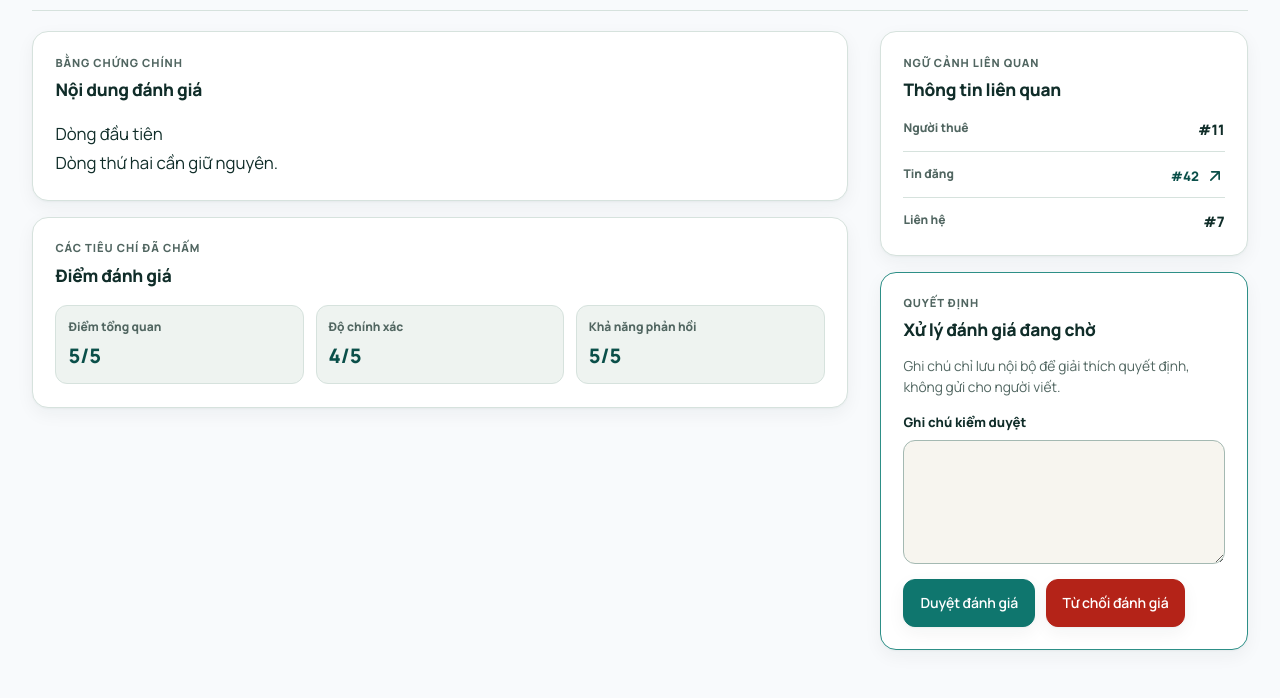
Test: AdminReviewDetail › handles a 409 with one canonical reload and never retries the PATCH
(page scrolled)
Type "Đã kiểm tra." into the text box labelled "Ghi chú kiểm duyệt" at (1064, 502), box [903,440,1225,564]
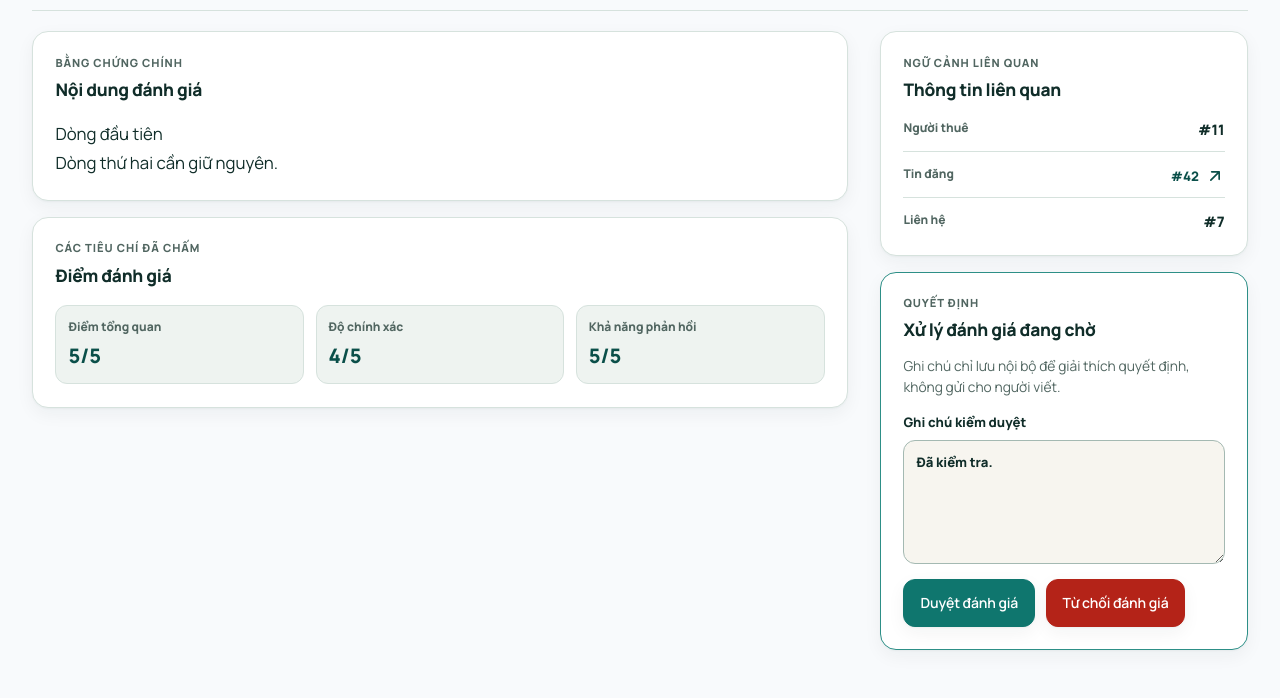
Click the button "Duyệt đánh giá" at (969, 603), box [903,579,1035,627]
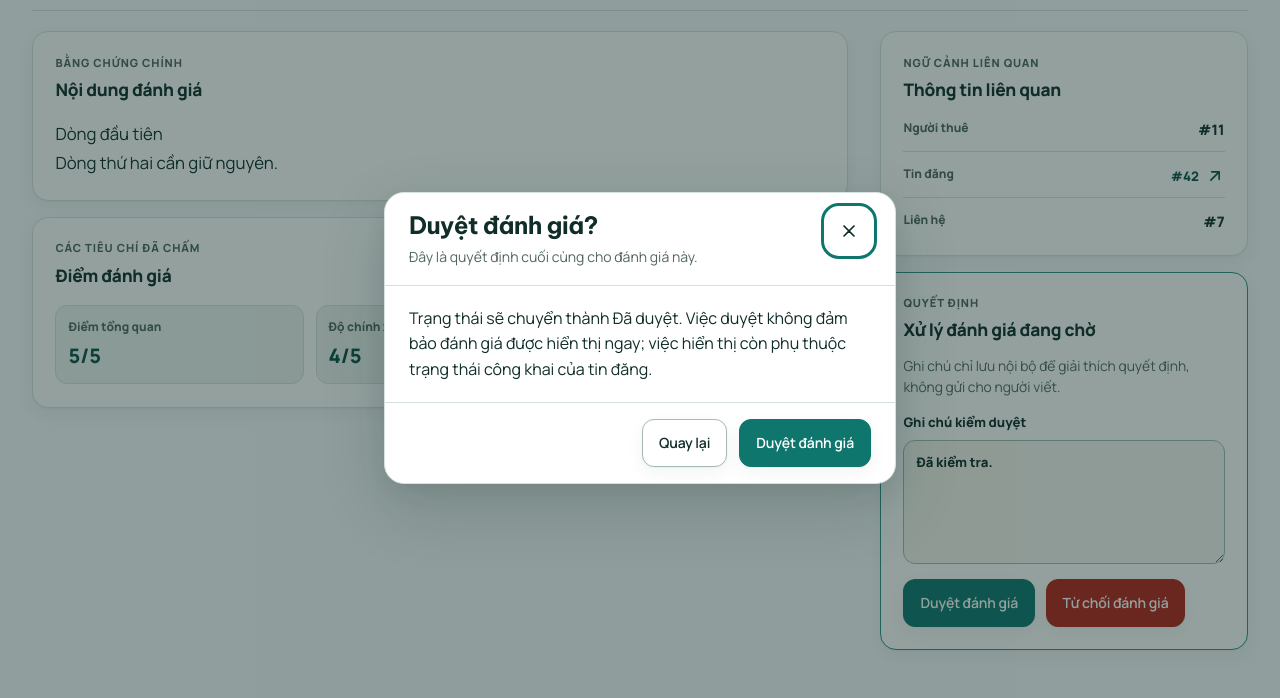
Click the button "Duyệt đánh giá" at (805, 443), box [739,419,871,467]
(page scrolled)
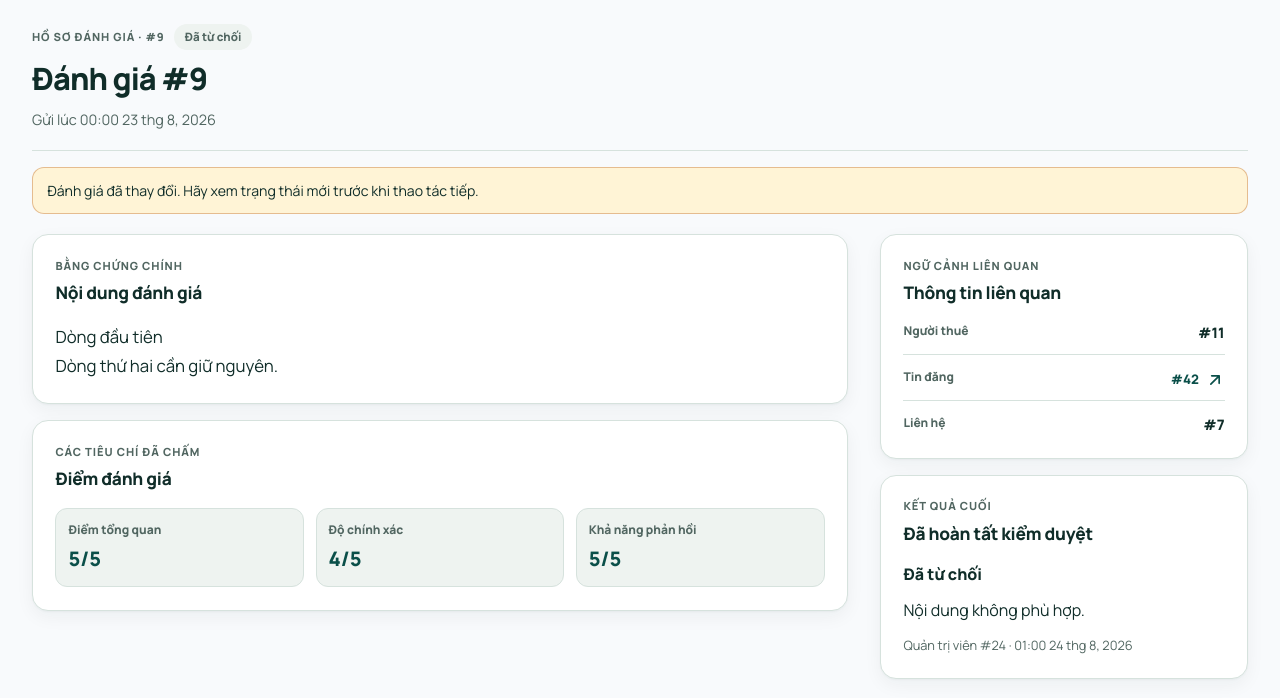
Now the text "Đánh giá đã thay đổi" is shown, box [47,181,479,200]
